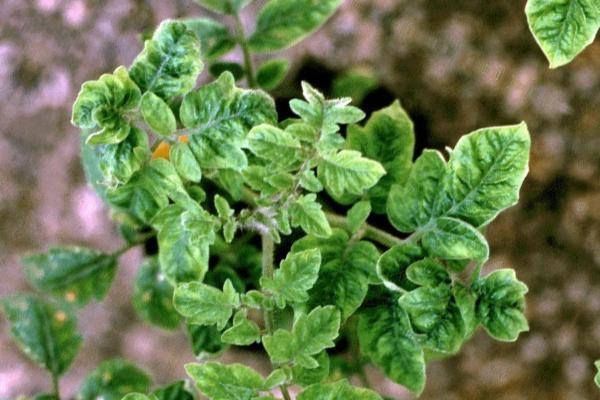Tomato leaf yellow virus: (382, 77, 559, 280), (147, 41, 287, 182), (335, 271, 466, 399), (98, 0, 227, 121), (251, 276, 355, 387), (132, 199, 226, 297), (296, 120, 393, 212), (158, 254, 254, 342), (228, 103, 319, 184)
